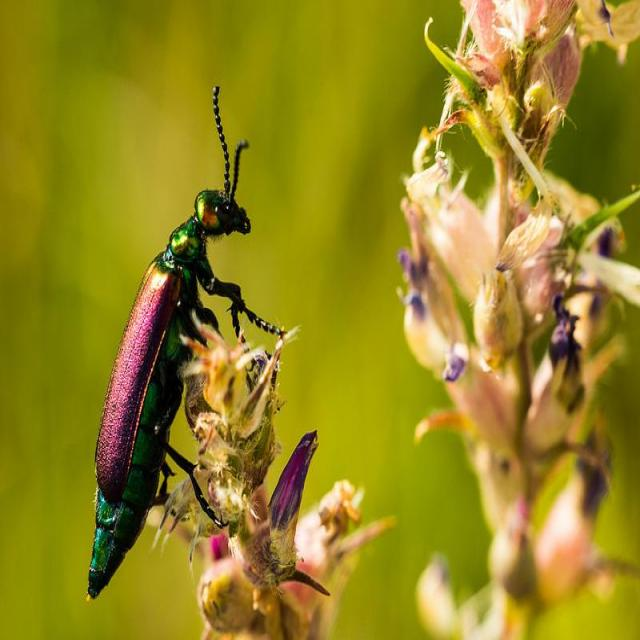BlisterBeetle-Adult-: (81, 78, 287, 611)
